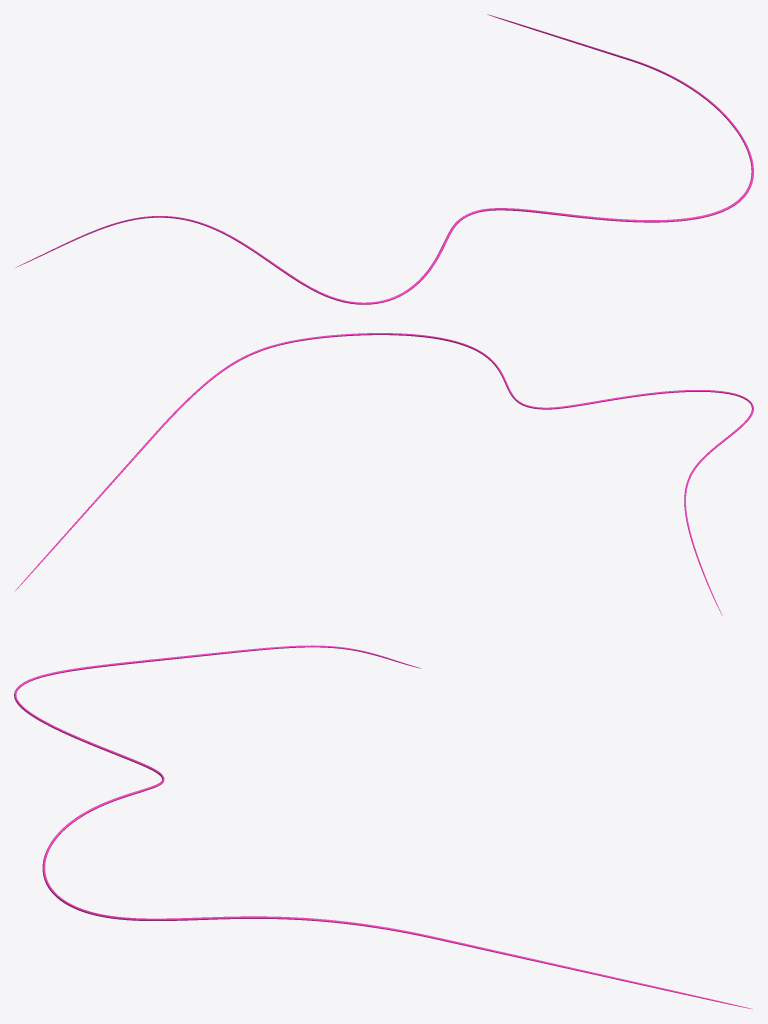
The model's file is NeonTrator.glb.
3 views of the same model, one above another, from view 1: azimuth 30°, elevation 25°; view 2: azimuth 150°, elevation 25°; view 3: azimuth 270°, elevation 25° (orthographic). The views are drawn at different scales.
Visible parts, largest first — view 1: Neon.Trator; view 2: Neon.Trator; view 3: Neon.Trator.
Part boxes in pixels (bbox=[...]): Neon.Trator: bbox=[15, 14, 753, 304]; Neon.Trator: bbox=[14, 333, 753, 615]; Neon.Trator: bbox=[14, 645, 752, 1009].
Bounding box in the file's own units: 37.23 × 4.91 × 35.57.
